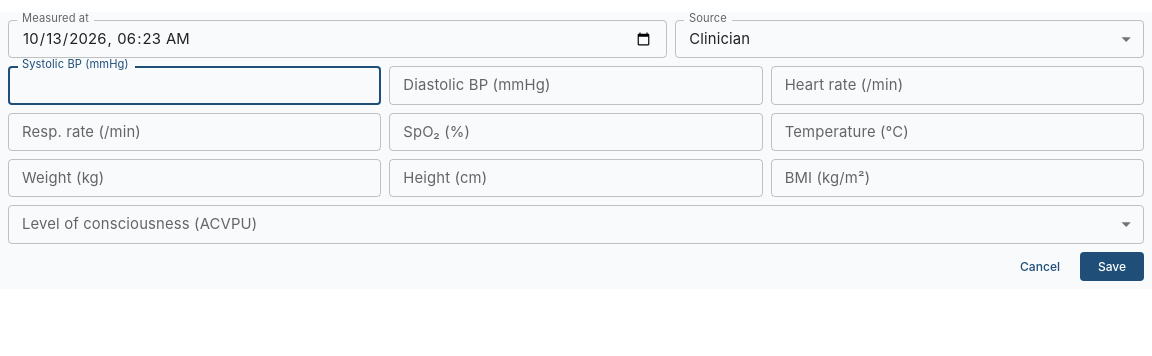
Test case: VitalsForm › requires at least one measurement
This screenshot has width=1152, height=356.
Click the button "Save" at (1112,266), box [1080, 252, 1144, 281]
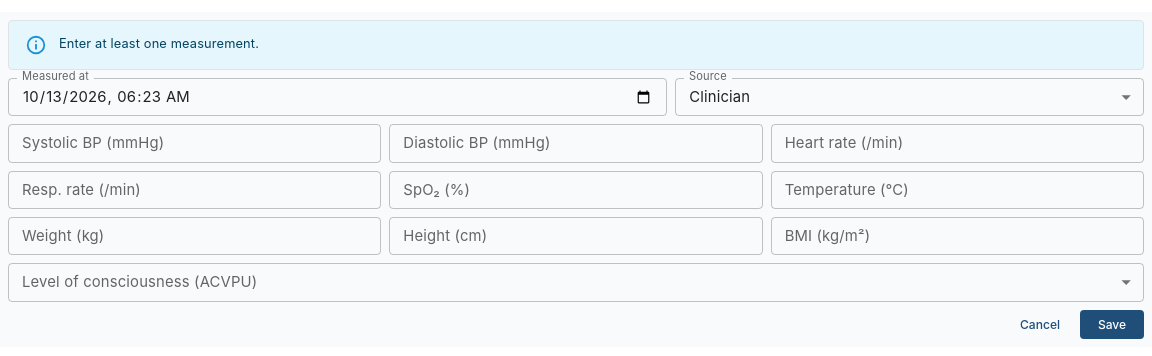
Expected: the text "Enter at least one measurement." is shown, [59, 36, 259, 51]
